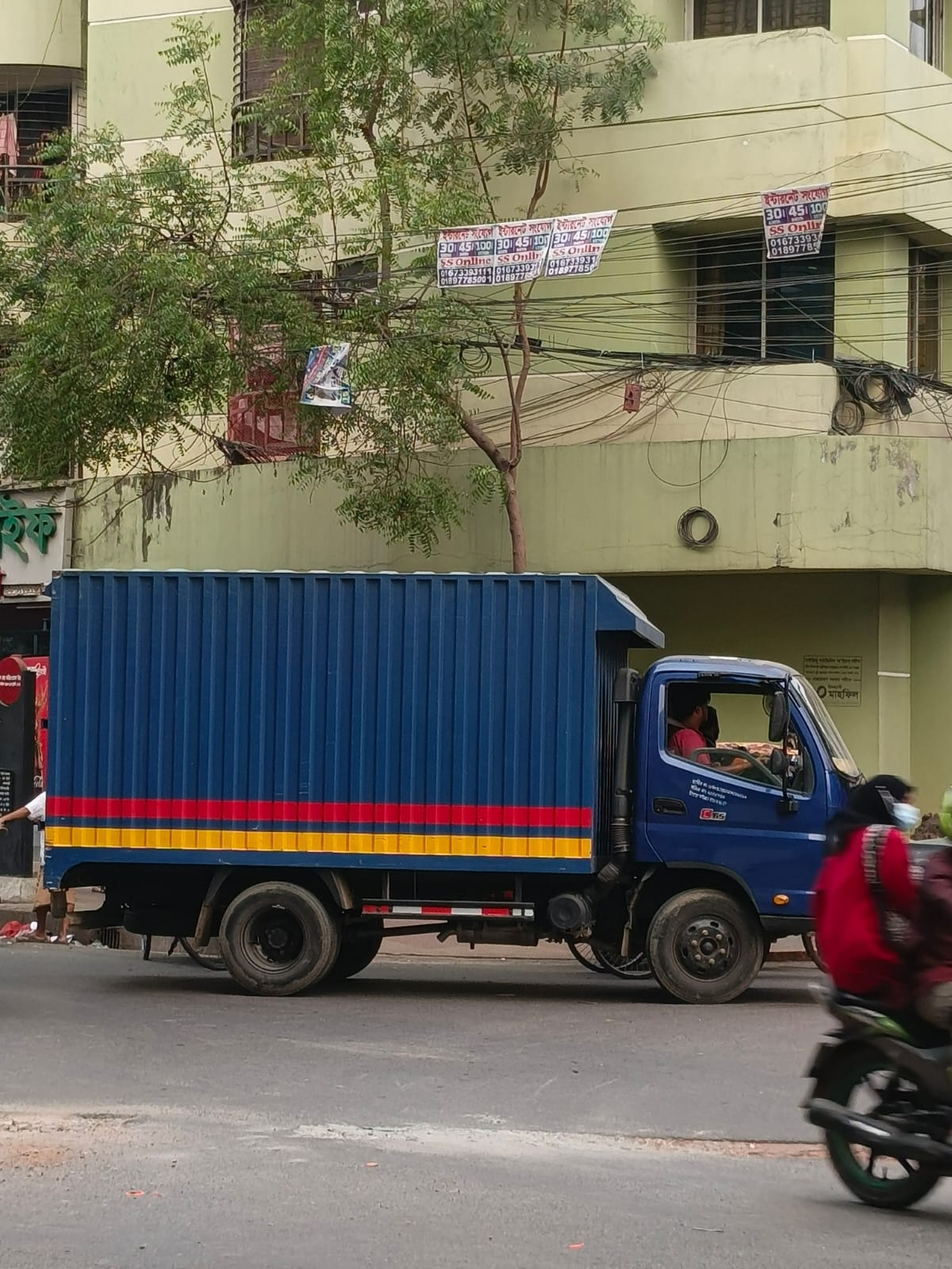Truck: (32, 541, 862, 1017)
